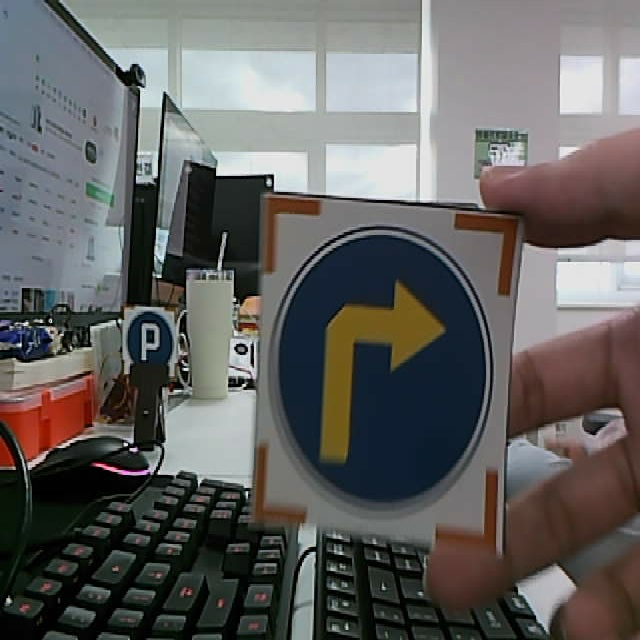right: (249, 190, 526, 562)
